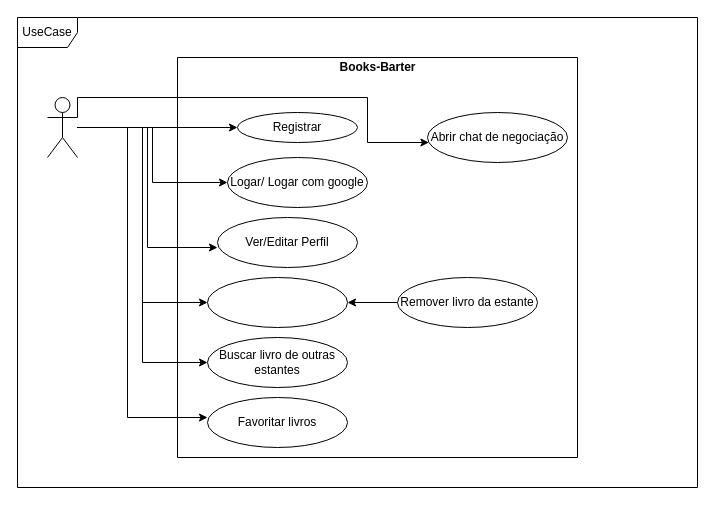
Image size: 715x505. Some labels were removed from this diagram. Here are the shapes that lost their labels. From the top down, the centre of each, then its label:
(x=62, y=127): Usuário
(x=277, y=302): Cadastrar Livro
